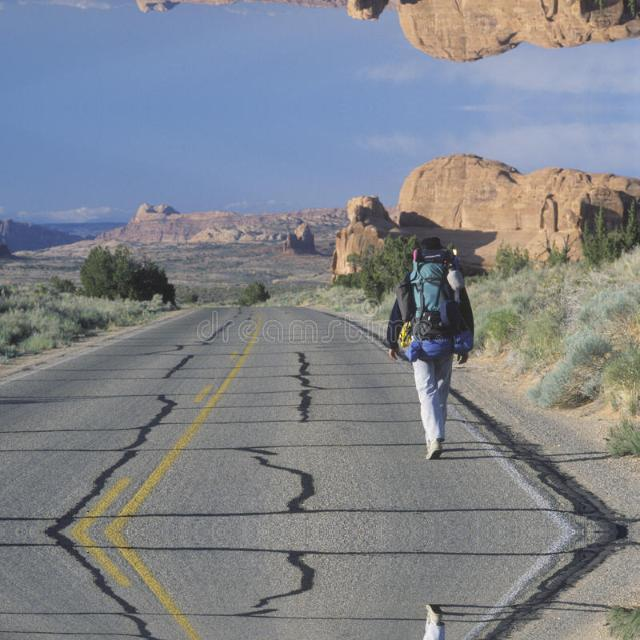person: (384, 235, 482, 475), (384, 589, 481, 640)
